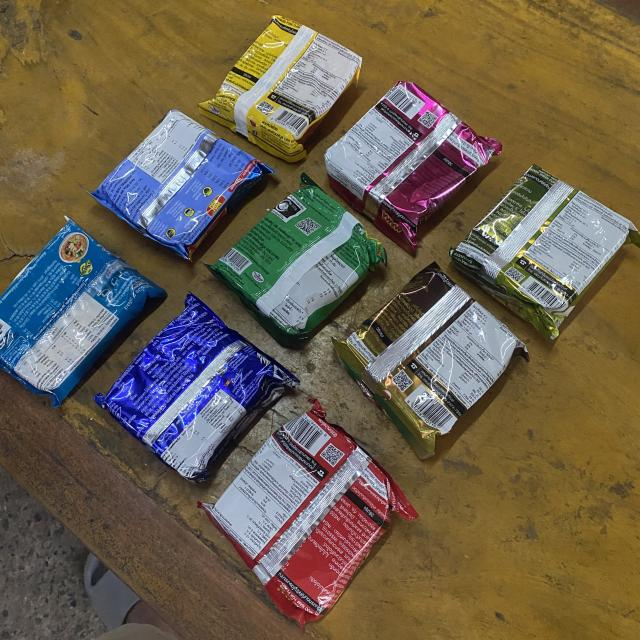plastik: (198, 400, 418, 626), (332, 262, 529, 459), (94, 294, 298, 481), (450, 165, 640, 340), (0, 218, 166, 406), (207, 177, 387, 347), (325, 82, 501, 255), (91, 110, 273, 258), (199, 16, 361, 162)
